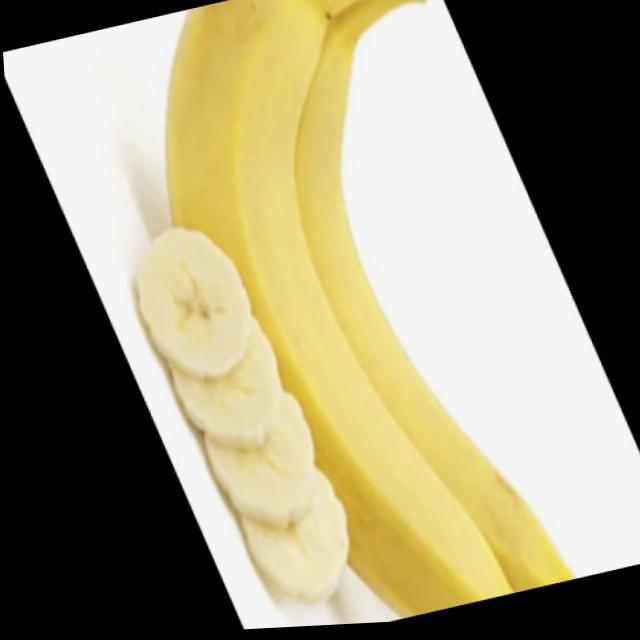Banana: (119, 0, 578, 635), (116, 203, 359, 631)
